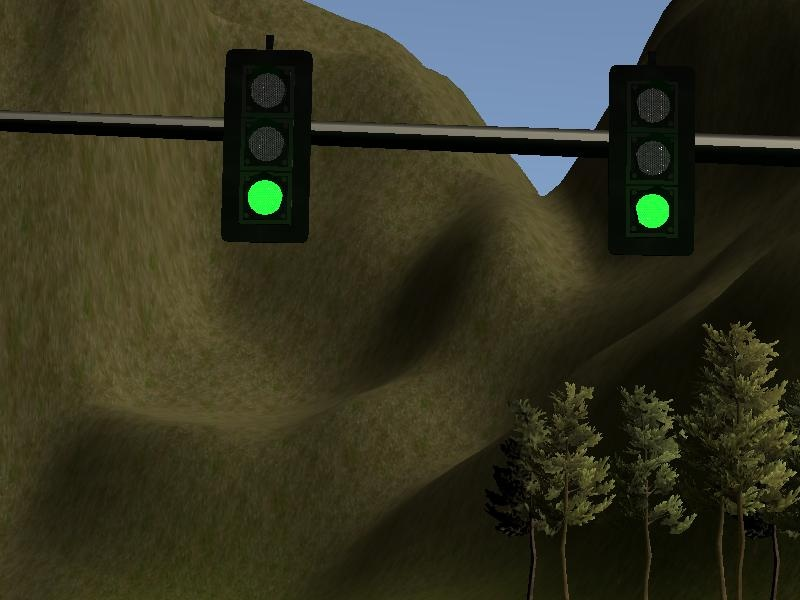GREEN: (221, 48, 312, 244), (608, 66, 696, 256)
